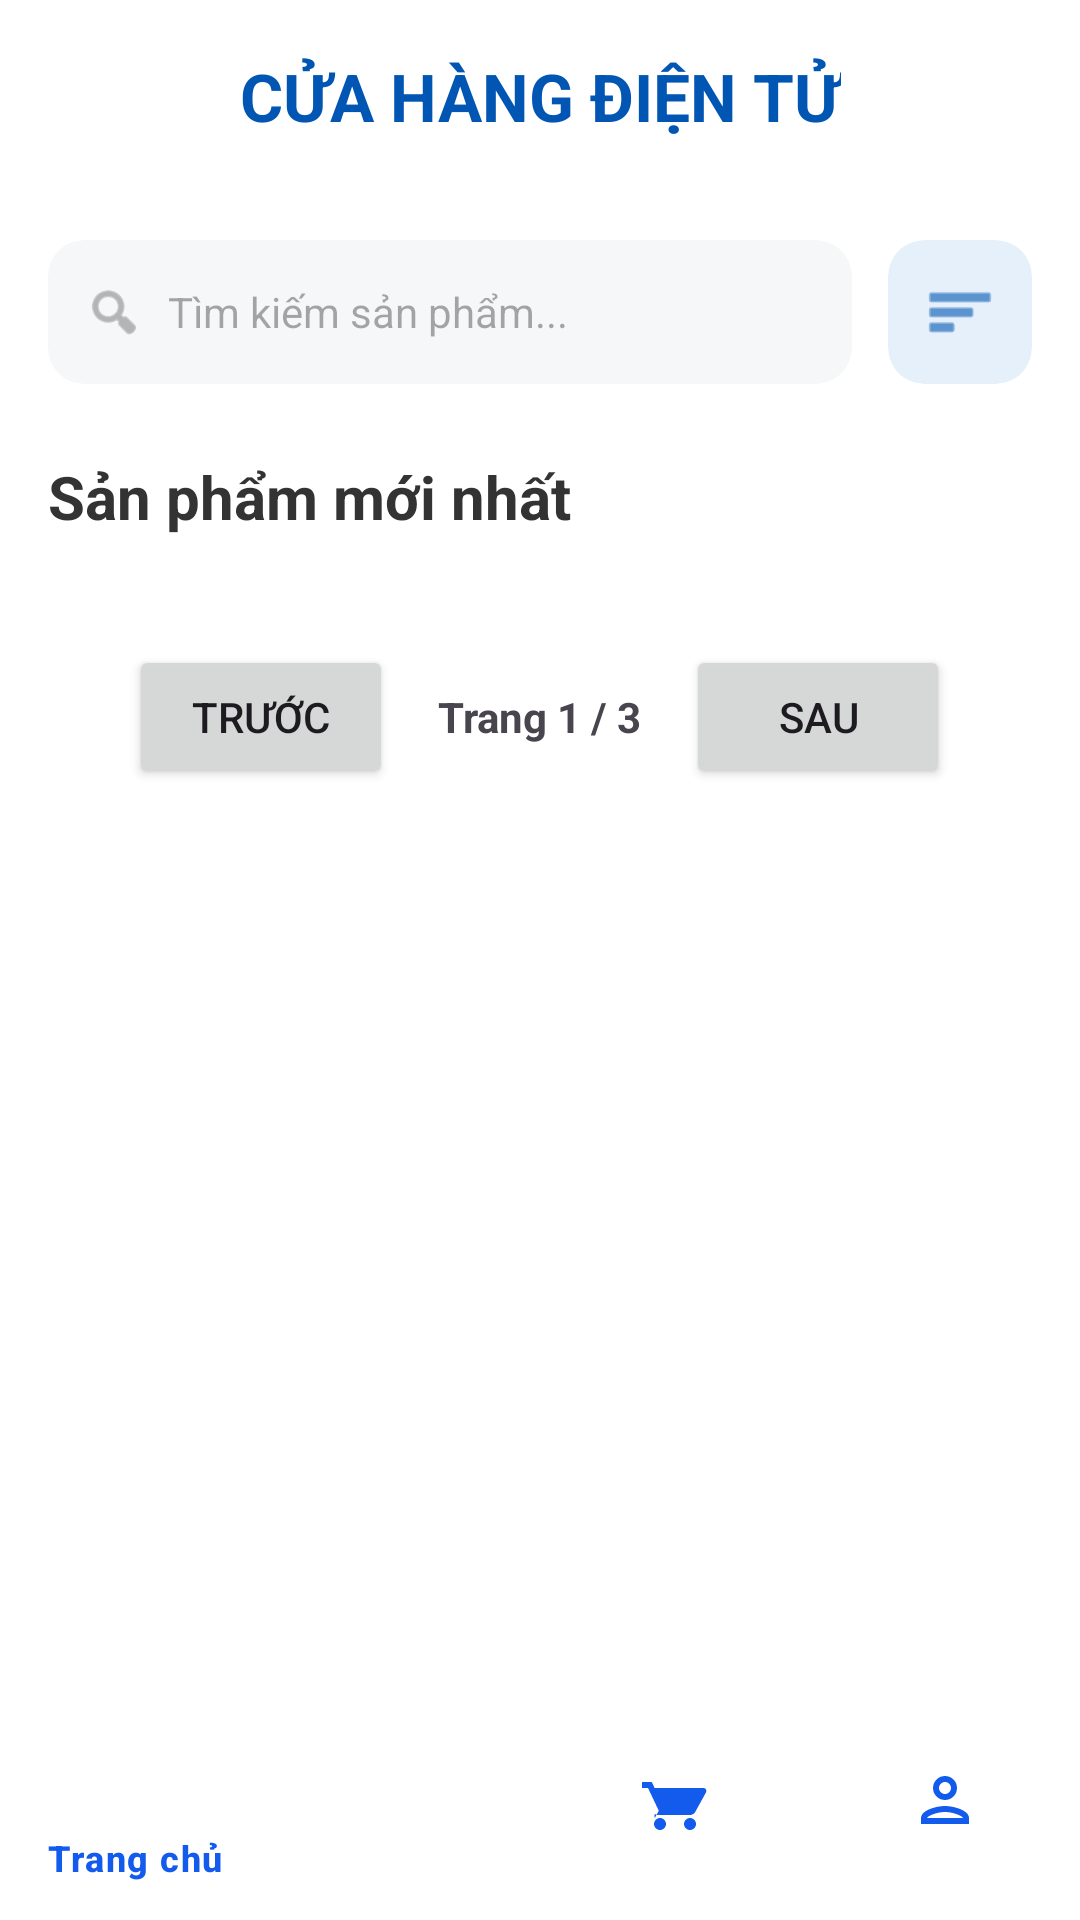

Named icons in this screenshot (1080w x 1920h) and their bounding boxes, (x1, y1, x2, y2):
search: (92, 290, 136, 334)
sort by size: (929, 292, 991, 333)
